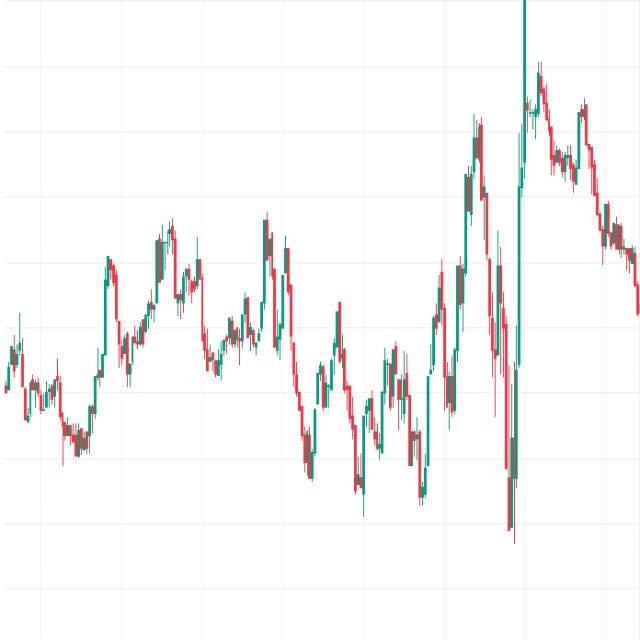Triple-Bottom: (285, 307, 440, 506)
